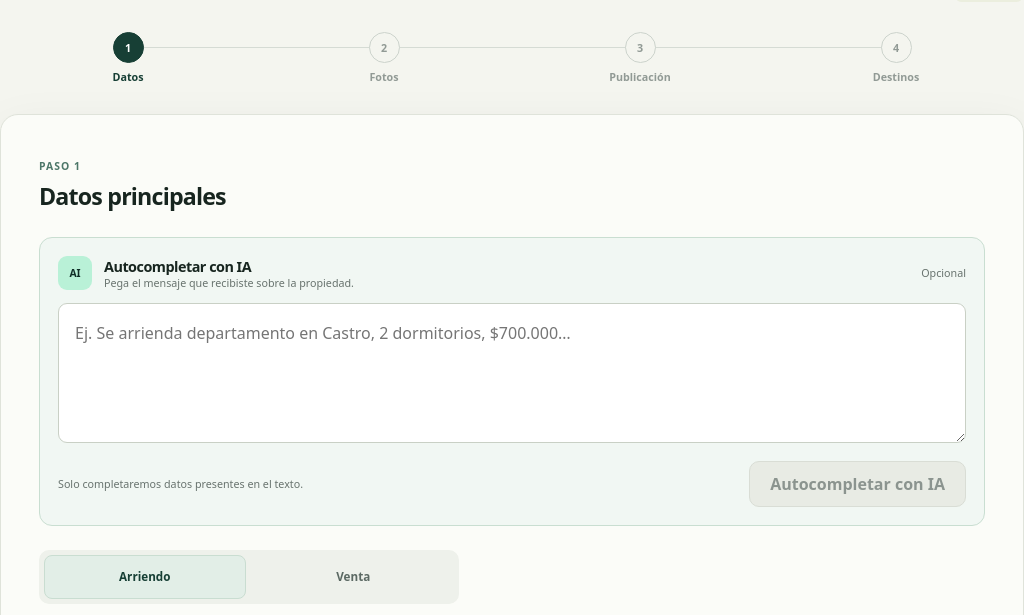
Test: NewPropertyWizardPage › deja vacíos los datos que no fueron encontrados
Type "Se arrienda departamento en Castro. Consultar detalles." into the text box named "Información de la propiedad" at (512, 373), box left=58, top=303, right=966, bottom=443
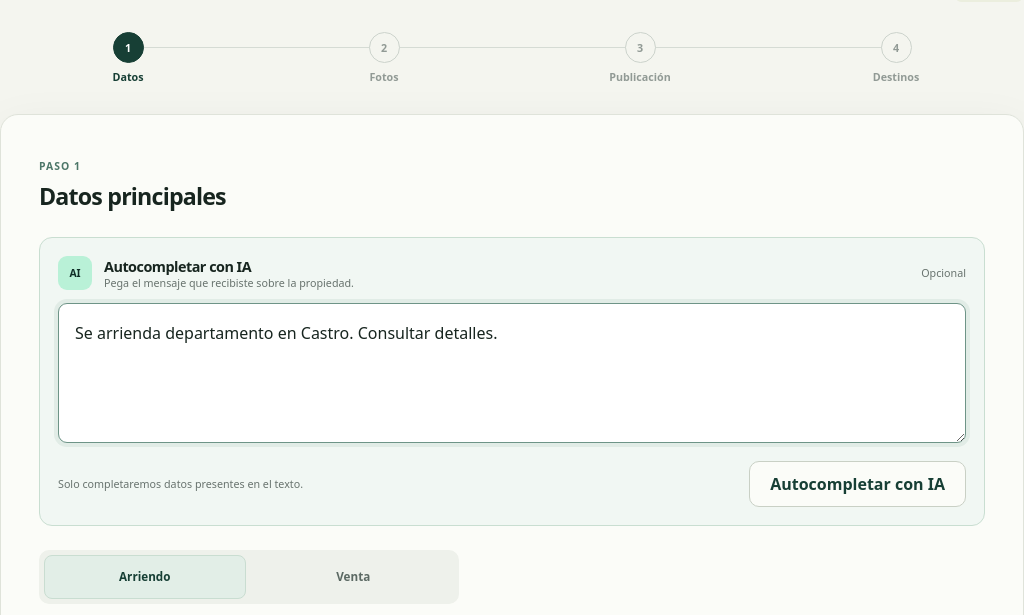
Click the button "Autocompletar con IA" at (858, 484), box left=749, top=461, right=966, bottom=507
(page scrolled)
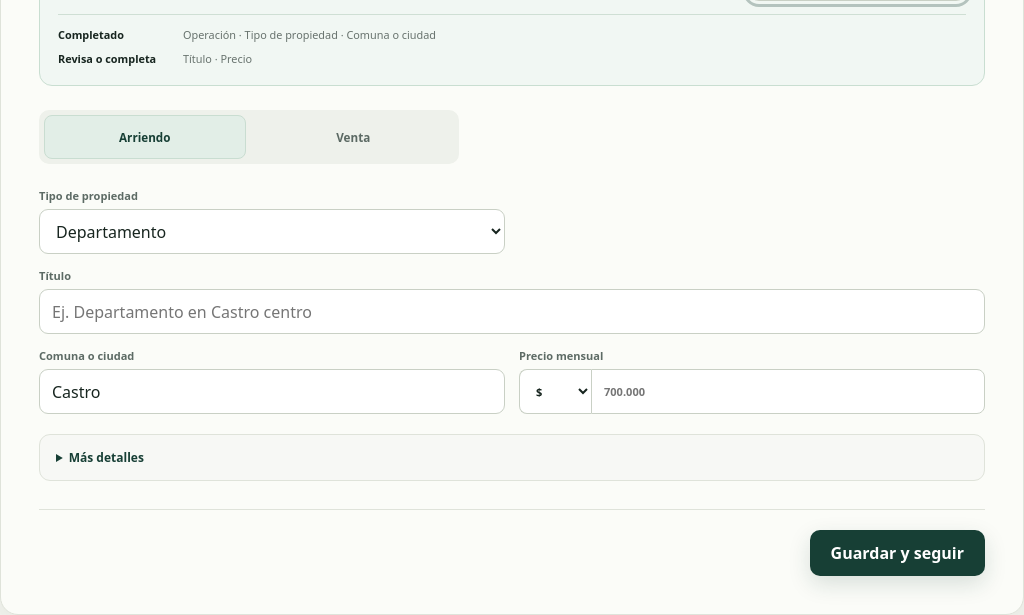
Expected: the field with placeholder "Ej. Departamento en Castro centro" is empty, left=39, top=289, right=985, bottom=334
Now the text "Revisa o completa" is shown, box left=58, top=51, right=173, bottom=67
Now the field labelled "Comuna o ciudad" holds "Castro", box left=39, top=369, right=505, bottom=414
